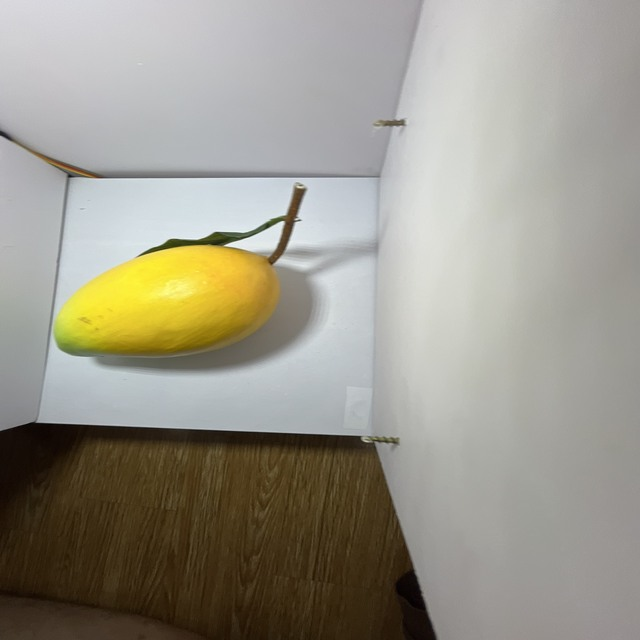Xoai: (32, 198, 305, 416)
